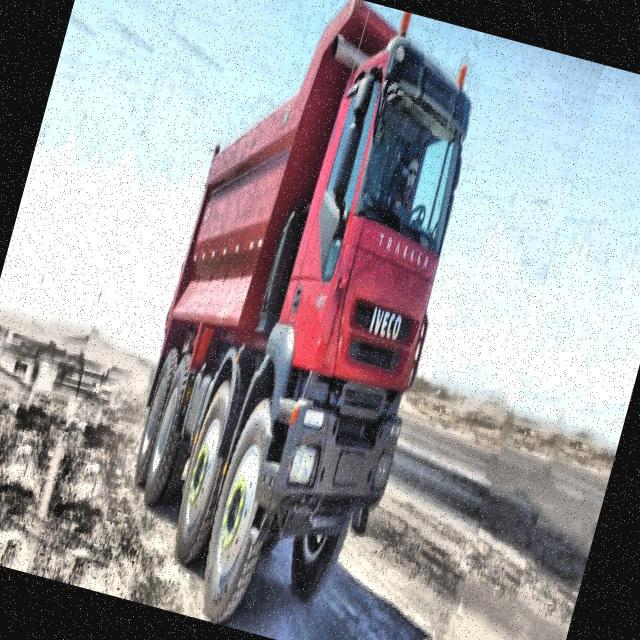dump_truck: (94, 0, 512, 640)
